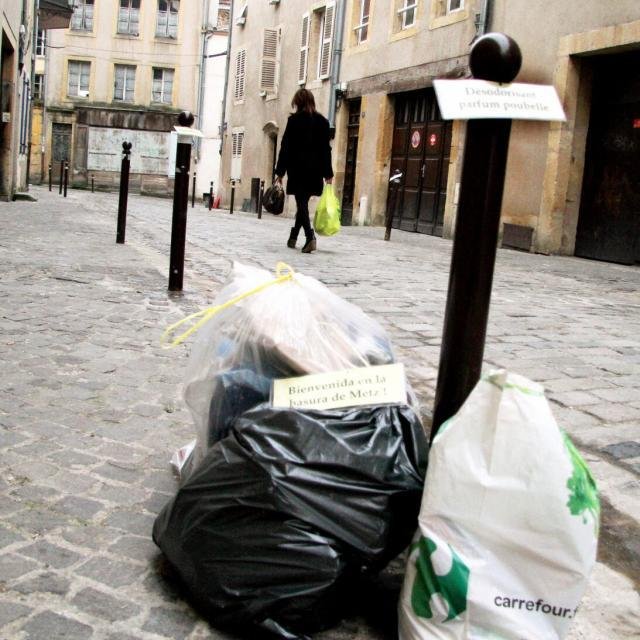garbage: (142, 246, 428, 640), (400, 360, 625, 640)
